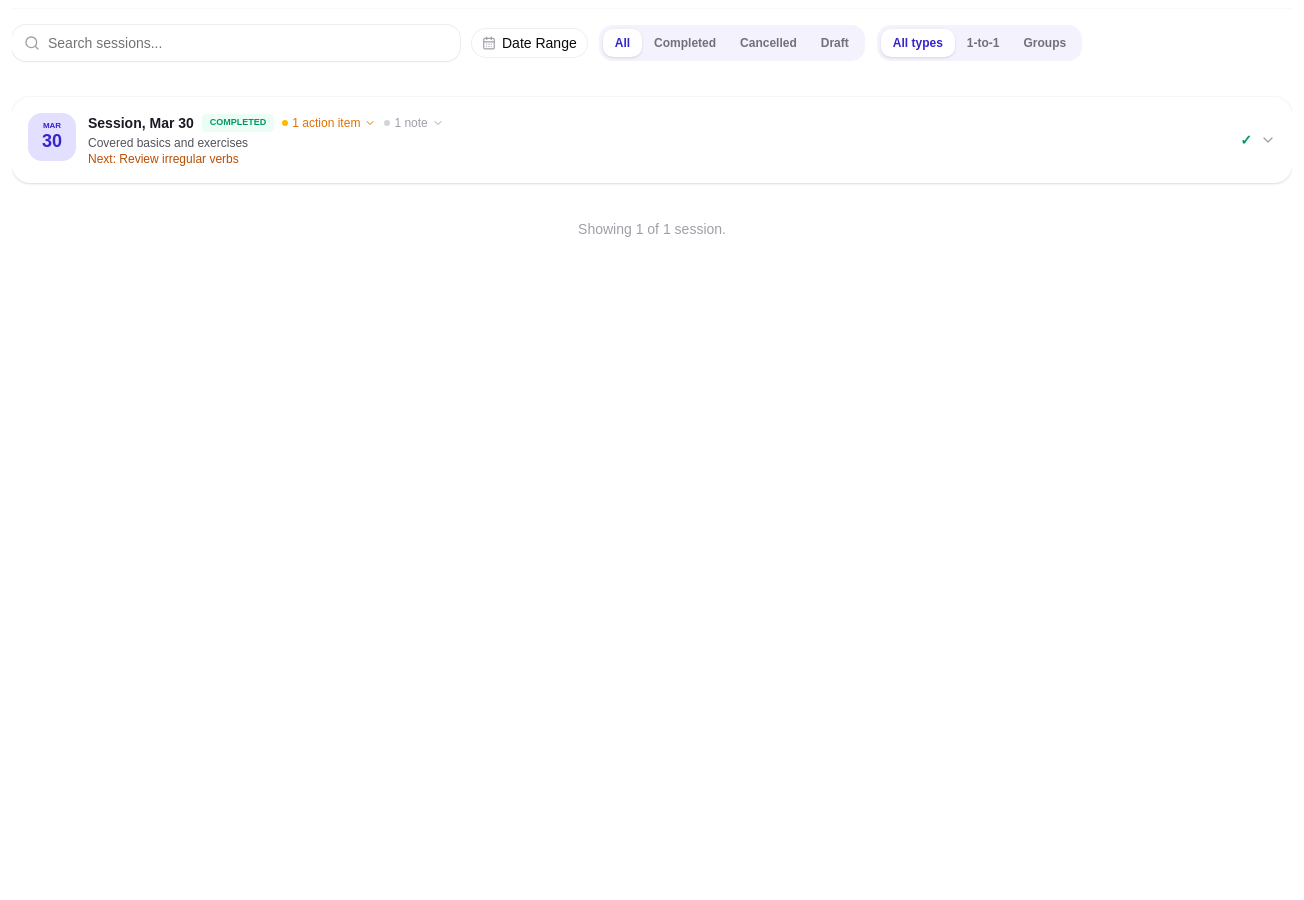
SessionHistoryTab › collapses entry on second click
The width and height of the screenshot is (1304, 900).
Click the button with test id "session-entry-toggle": (52, 137) [12,97,1292,183]
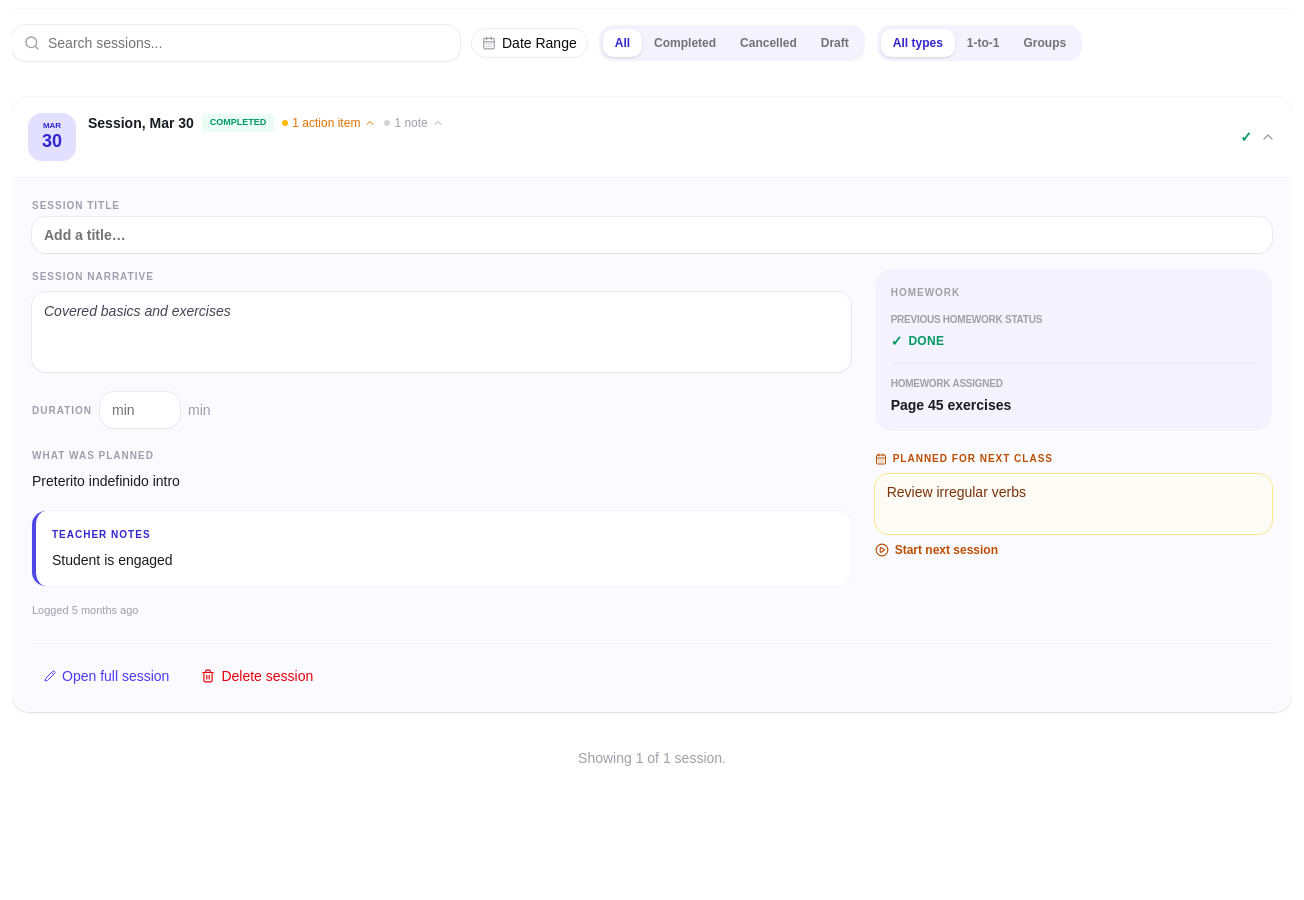
Expected: the element with test id "session-entry-detail" is shown, [12,177,1292,712]
Click the button with test id "session-entry-toggle": (52, 137) [12,97,1292,177]
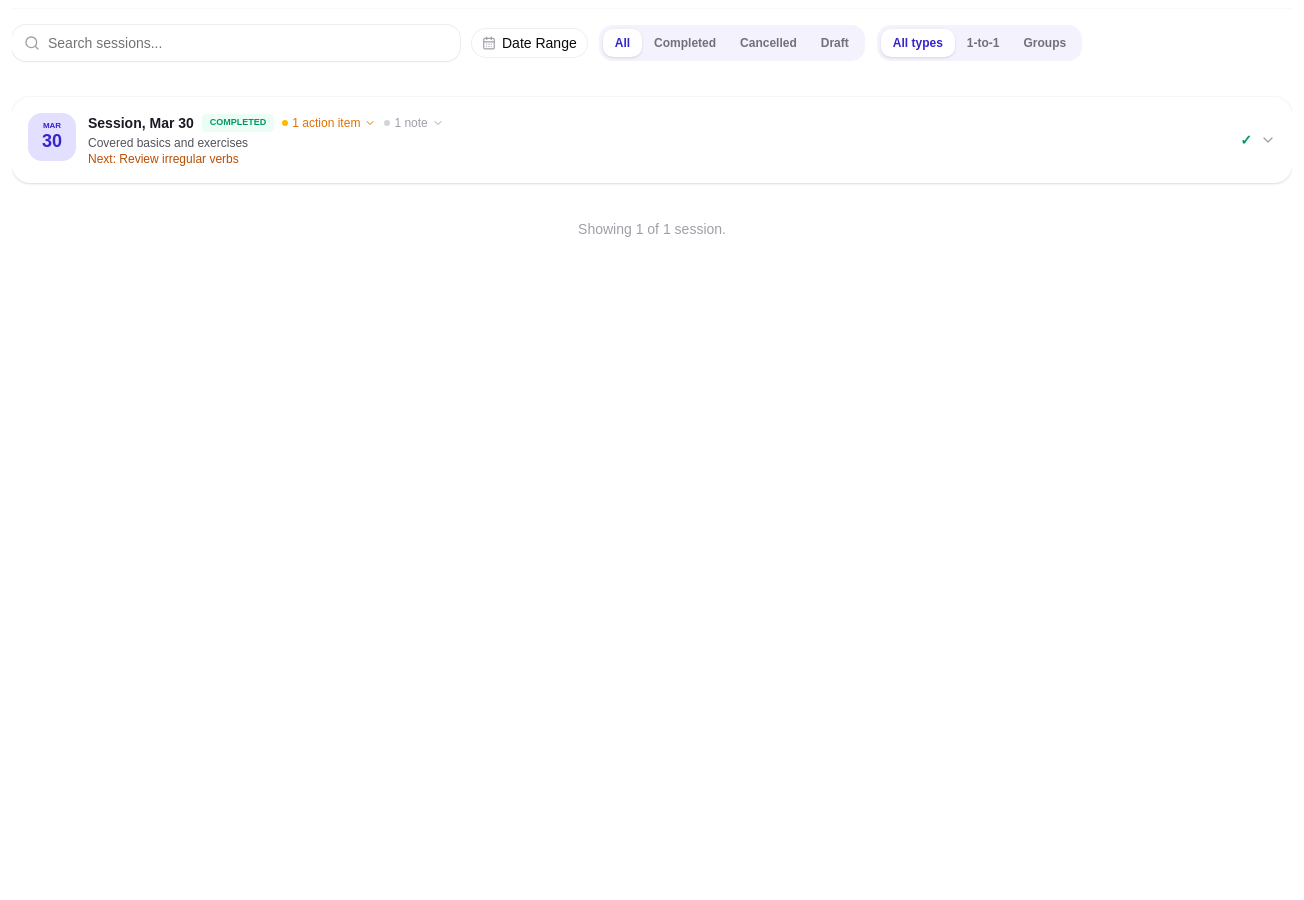
Expected: the element with test id "session-entry-detail" is gone
